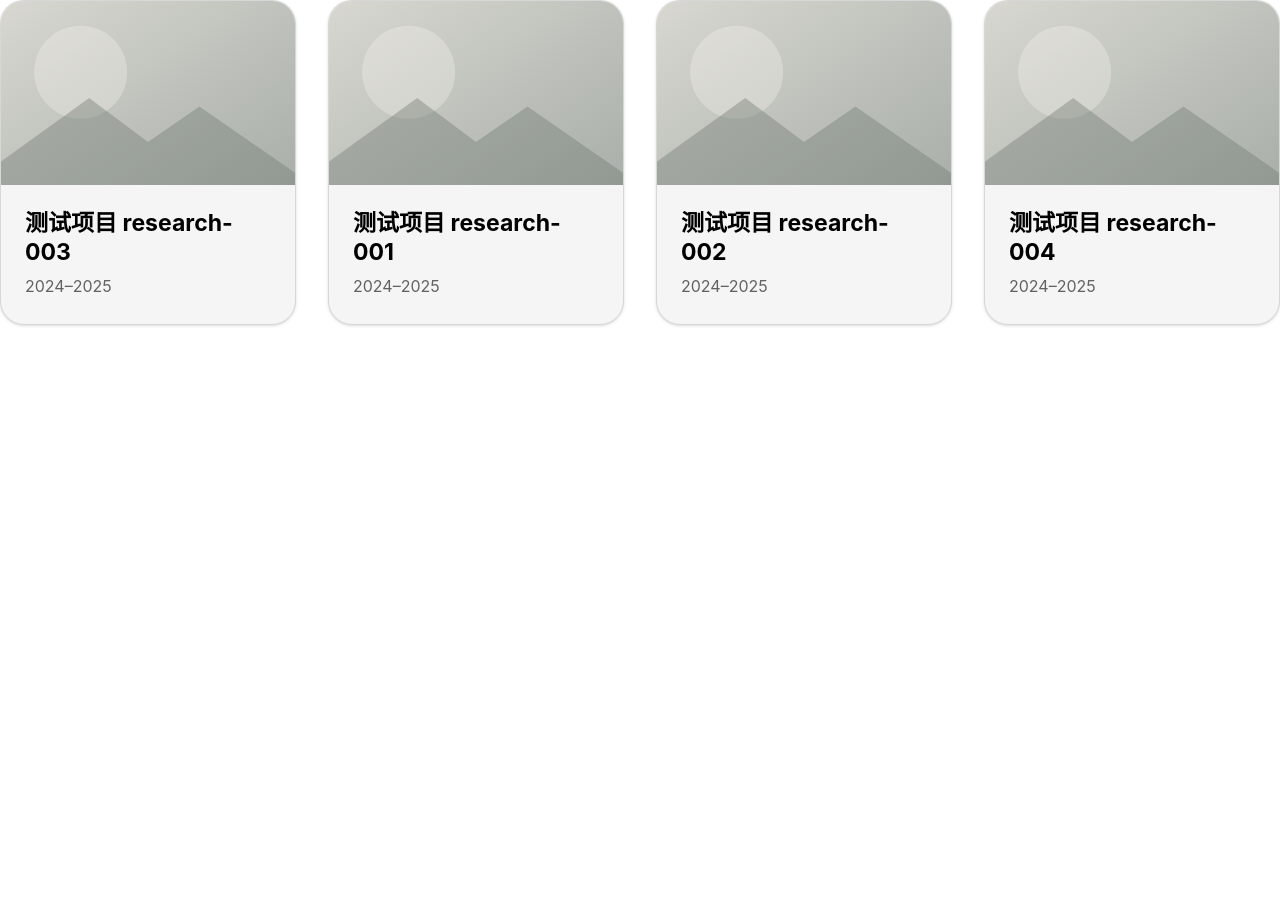
Test: ResearchShowcase › closes automatically when the active id disappears after a list update
Click the button "测试项目 research-004 2024–2025" at (1132, 162), box [985,1,1279,324]
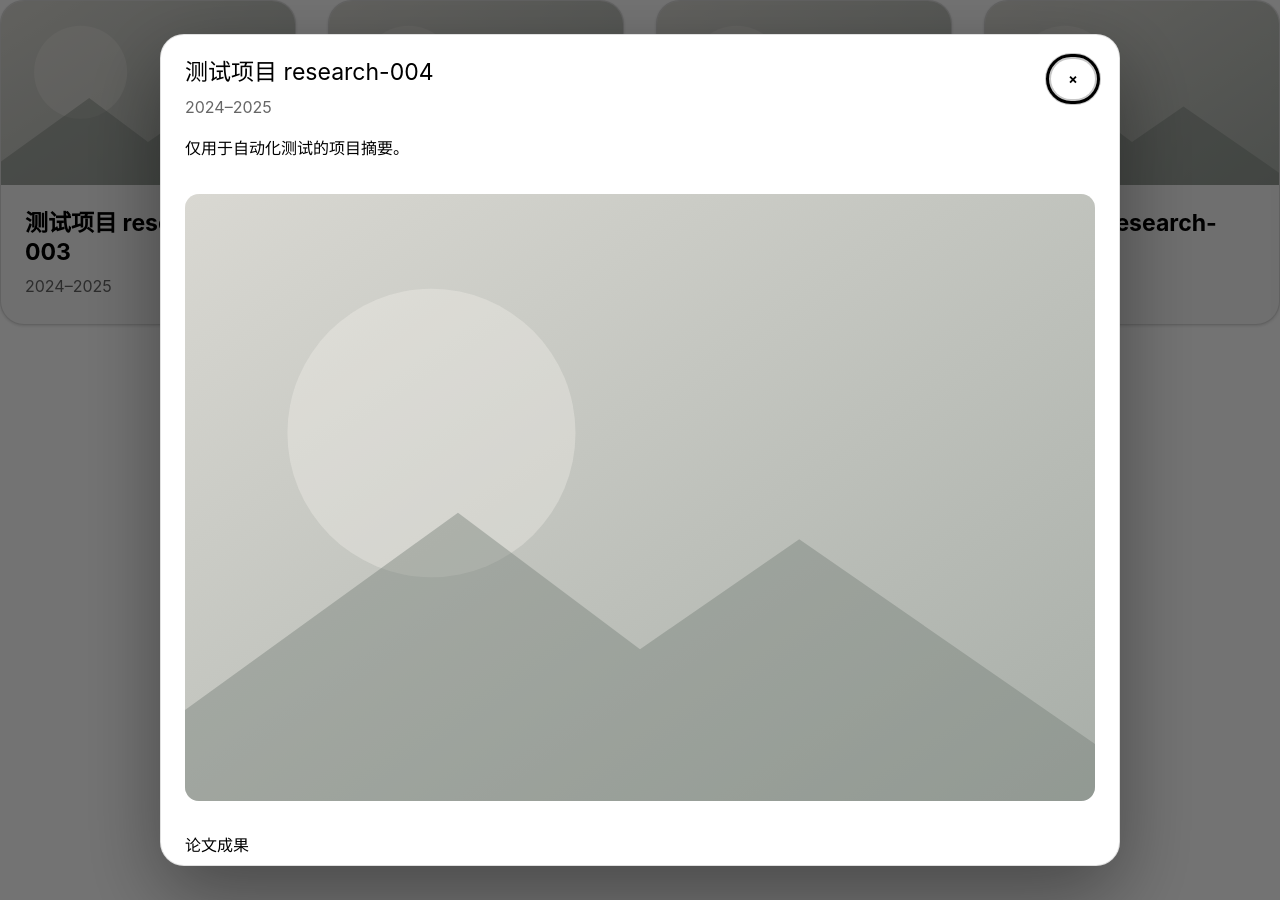
Expected: the dialog "测试项目 research-004" is shown
